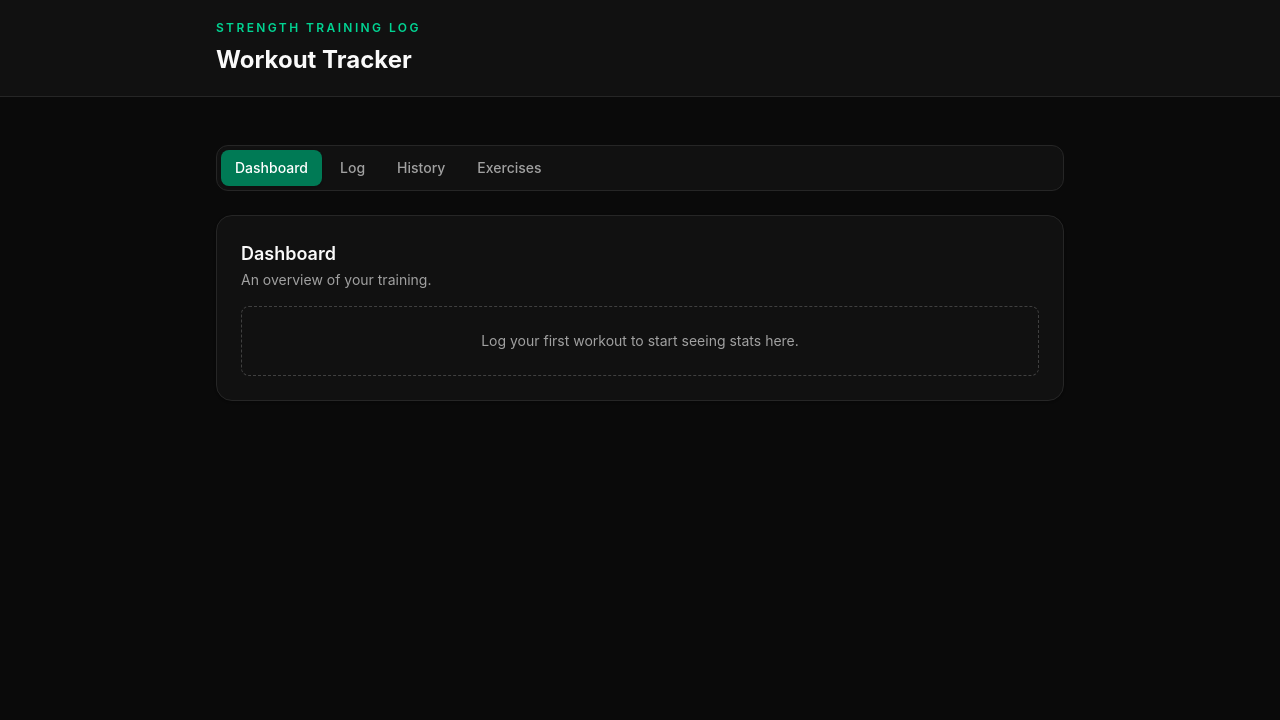
requires repairing missing exercise references before saving template edits
What coordinates should you click on to do the following:
click the tab "Log"
I would click on:
 (352, 168)
Its box is [326,150,379,186].
(page scrolled)
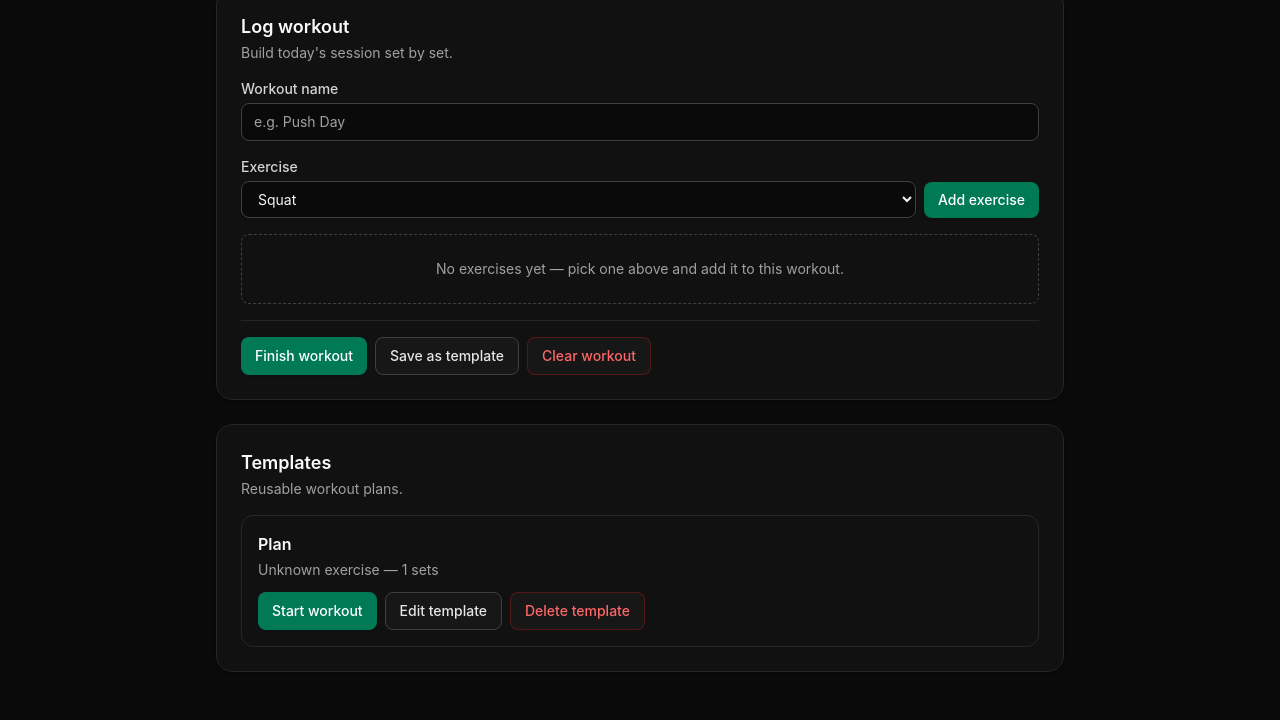
Expected: the button "Edit template" is shown
What coordinates should you click on to do the following:
click the button "Edit template"
I would click on:
 (443, 611)
Its box is [385,592,502,630].
(page scrolled)
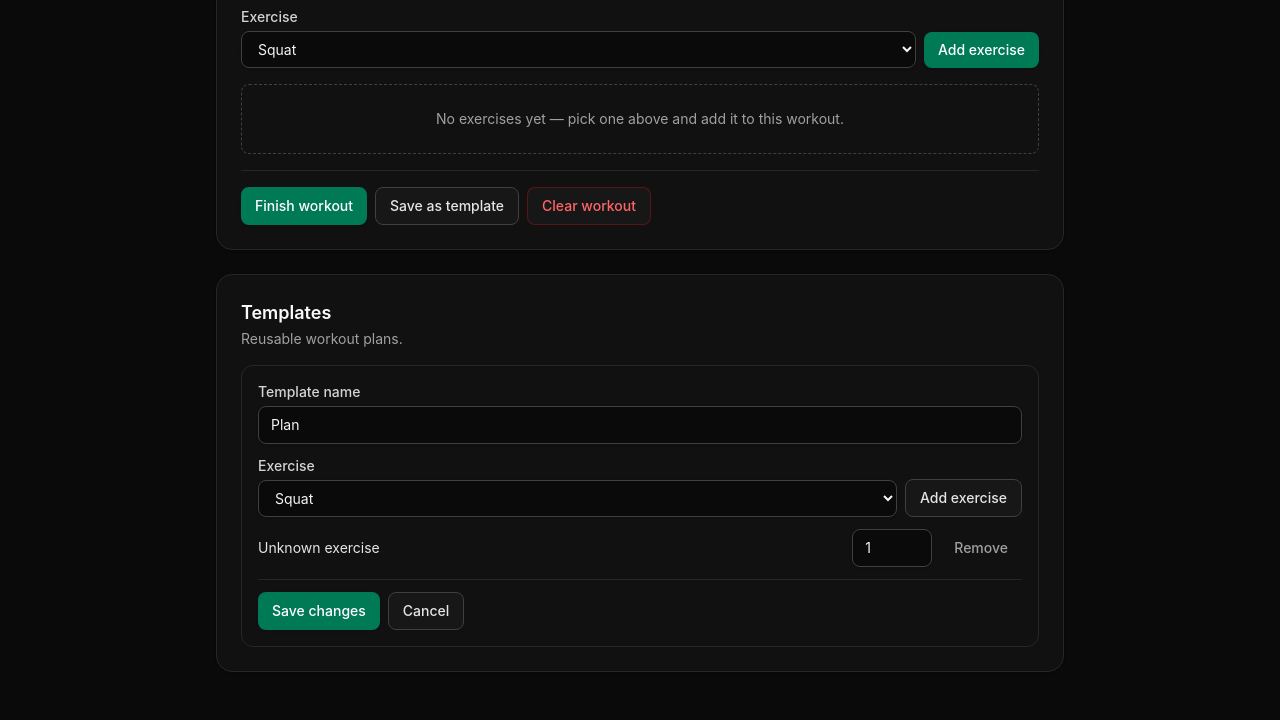
Expected: the button "Save changes" is shown
What coordinates should you click on to do the following:
click the button "Save changes"
I would click on:
 (319, 611)
Its box is [258,592,380,630].
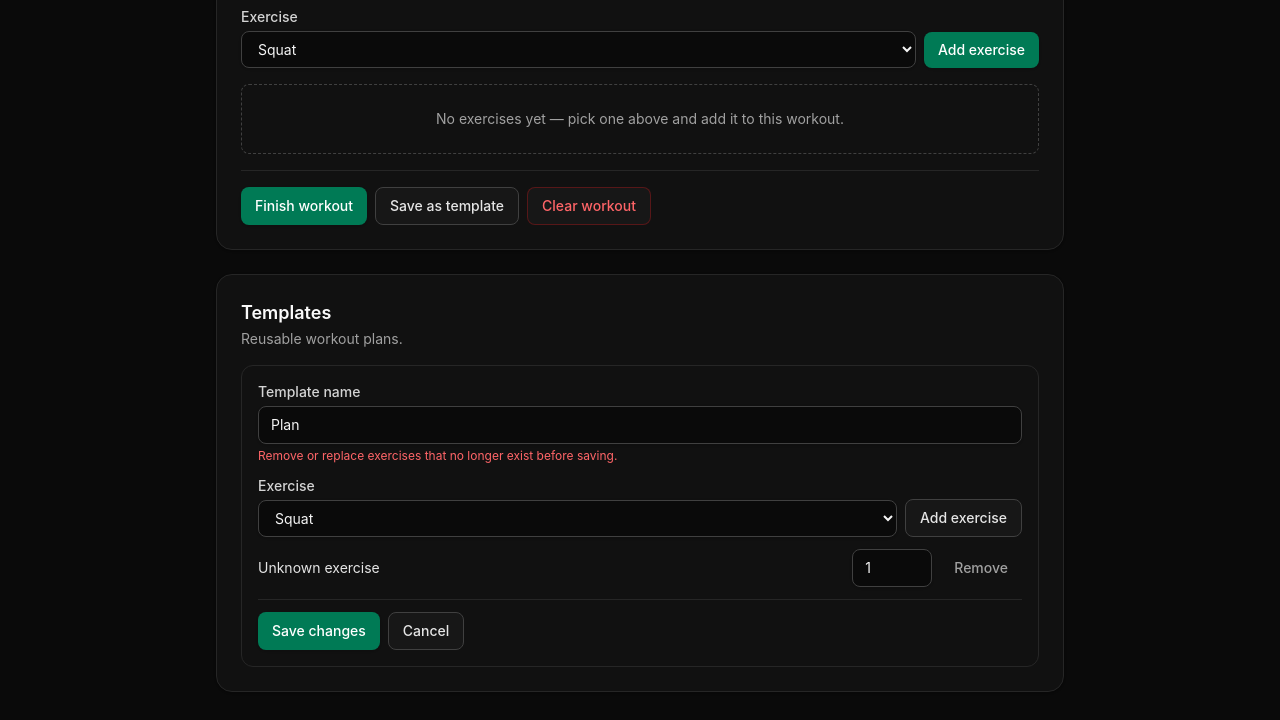
Expected: the text "Save changes" is shown, [258,612,380,650]
Expected: the text "Remove or replace exercises" is shown, [258,448,617,463]
